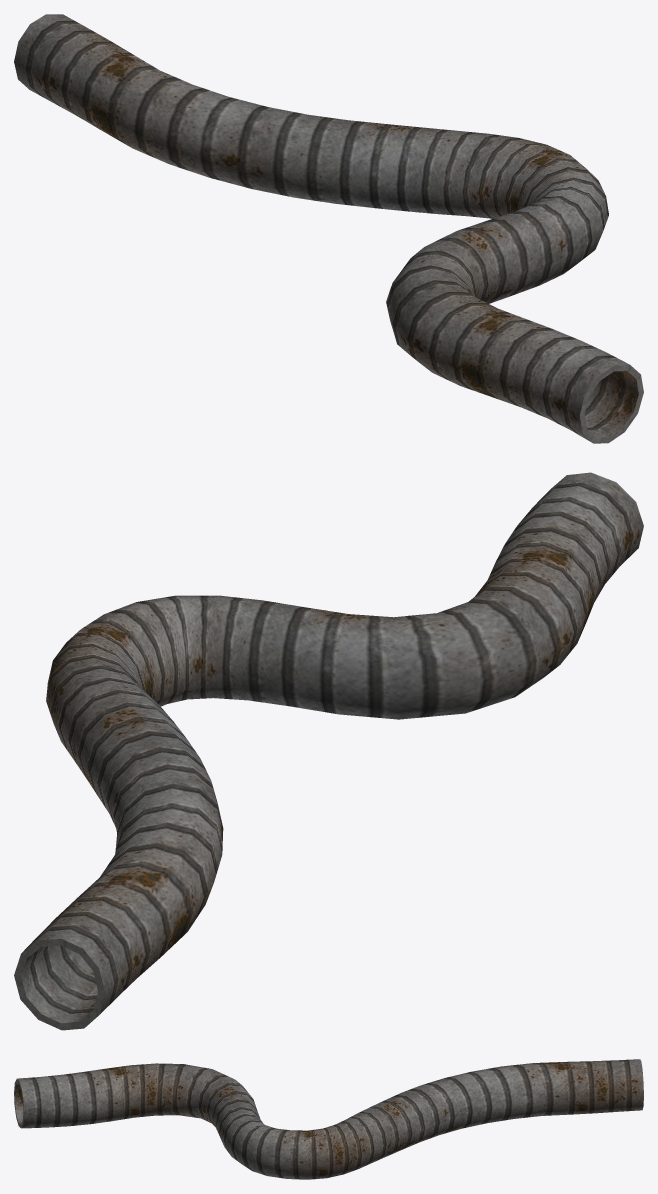
Rendered from pipe_e_1.obj.
3 renders of one model, top to bottom at view 1: azimuth 30°, elevation 25°; view 2: azimuth 150°, elevation 25°; view 3: azimuth 270°, elevation 25°, orthographic. The views are drawn at different scales.
Parts seen in each view (by area): view 1: pipe_e_1; view 2: pipe_e_1; view 3: pipe_e_1.
Boxes of the visible parts, bbox=[...] form: pipe_e_1: bbox=[14, 14, 643, 443]; pipe_e_1: bbox=[14, 472, 643, 1030]; pipe_e_1: bbox=[14, 1059, 643, 1179].
Size of the model in its own units: 1.05 by 0.25 by 3.05.
